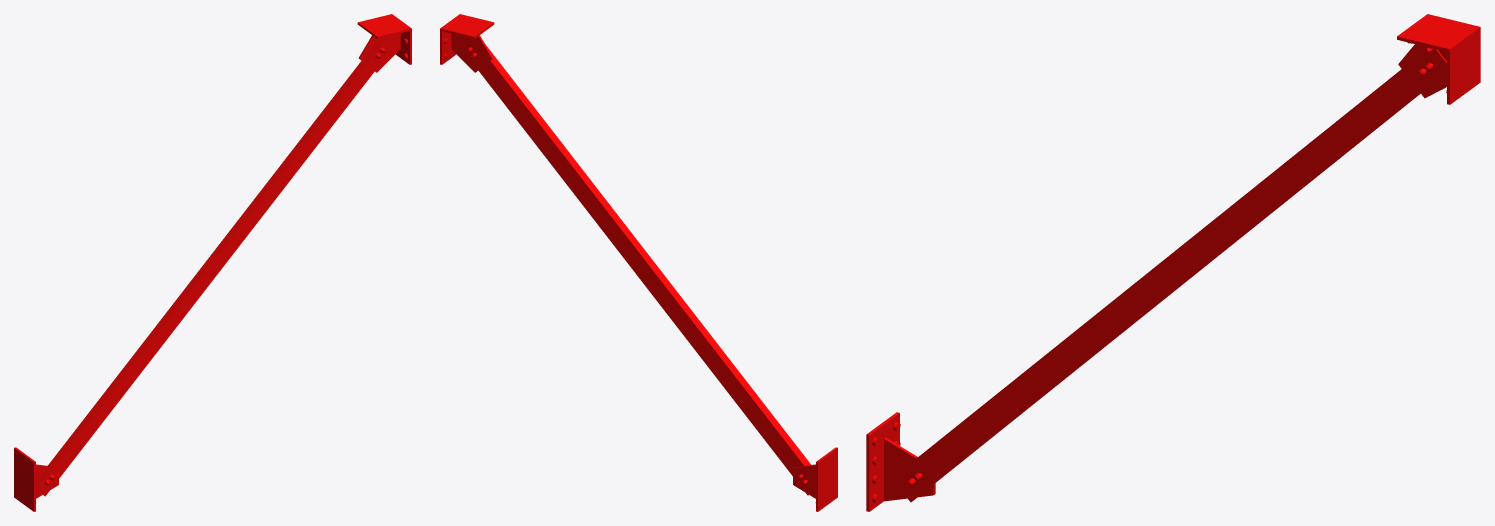
The model's file is Structure01_Support01b.fbx.
3 renders of one model, left to right at view 1: azimuth 30°, elevation 25°; view 2: azimuth 150°, elevation 25°; view 3: azimuth 330°, elevation 25°, orthographic. The views are drawn at different scales.
Parts seen in each view (by area): view 1: Structure01_Support01b_LOD0; view 2: Structure01_Support01b_LOD0; view 3: Structure01_Support01b_LOD0.
Boxes of the visible parts, x1,y1,x2,y2 form: Structure01_Support01b_LOD0: [14, 14, 411, 511]; Structure01_Support01b_LOD0: [440, 14, 837, 511]; Structure01_Support01b_LOD0: [866, 14, 1480, 511].
Size of what is drawn, in the model's own units: 275 by 272 by 25.
